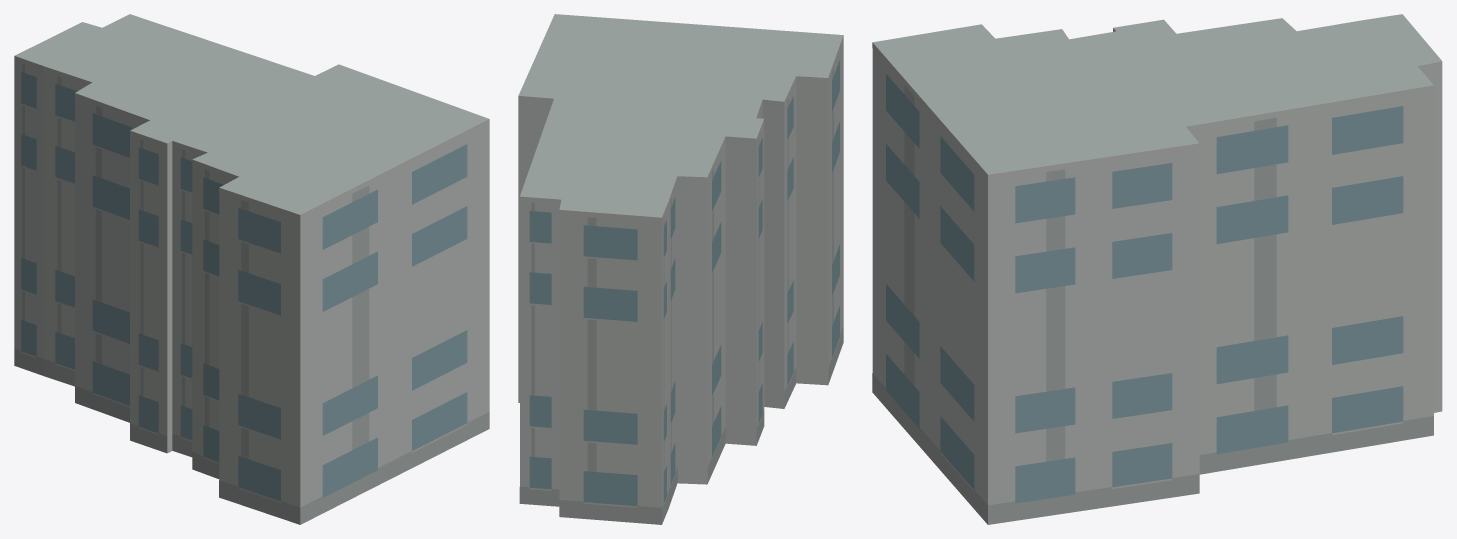
Rendered from survey-upis-32710549.glb.
3 views of the same model, side by side, from view 1: azimuth 30°, elevation 25°; view 2: azimuth 150°, elevation 25°; view 3: azimuth 270°, elevation 25° (orthographic). The views are drawn at different scales.
Visible parts, largest first — view 1: survey-upis-32710549.tmp; view 2: survey-upis-32710549.tmp; view 3: survey-upis-32710549.tmp.
Part boxes in pixels (left/top/right/bottom): survey-upis-32710549.tmp: left=14, top=14, right=489, bottom=524; survey-upis-32710549.tmp: left=518, top=14, right=843, bottom=524; survey-upis-32710549.tmp: left=872, top=14, right=1442, bottom=524.
Size of the model in its own units: 14.09 by 14.3 by 21.11.
